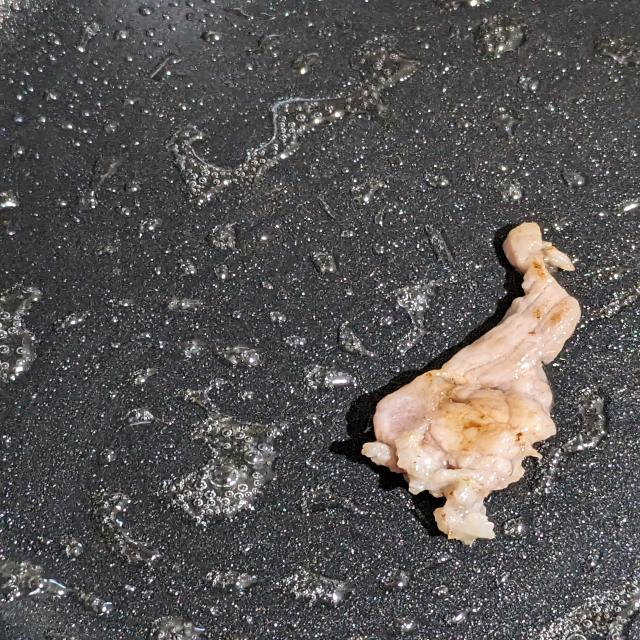OK cooked pork,: (342, 208, 593, 557)
